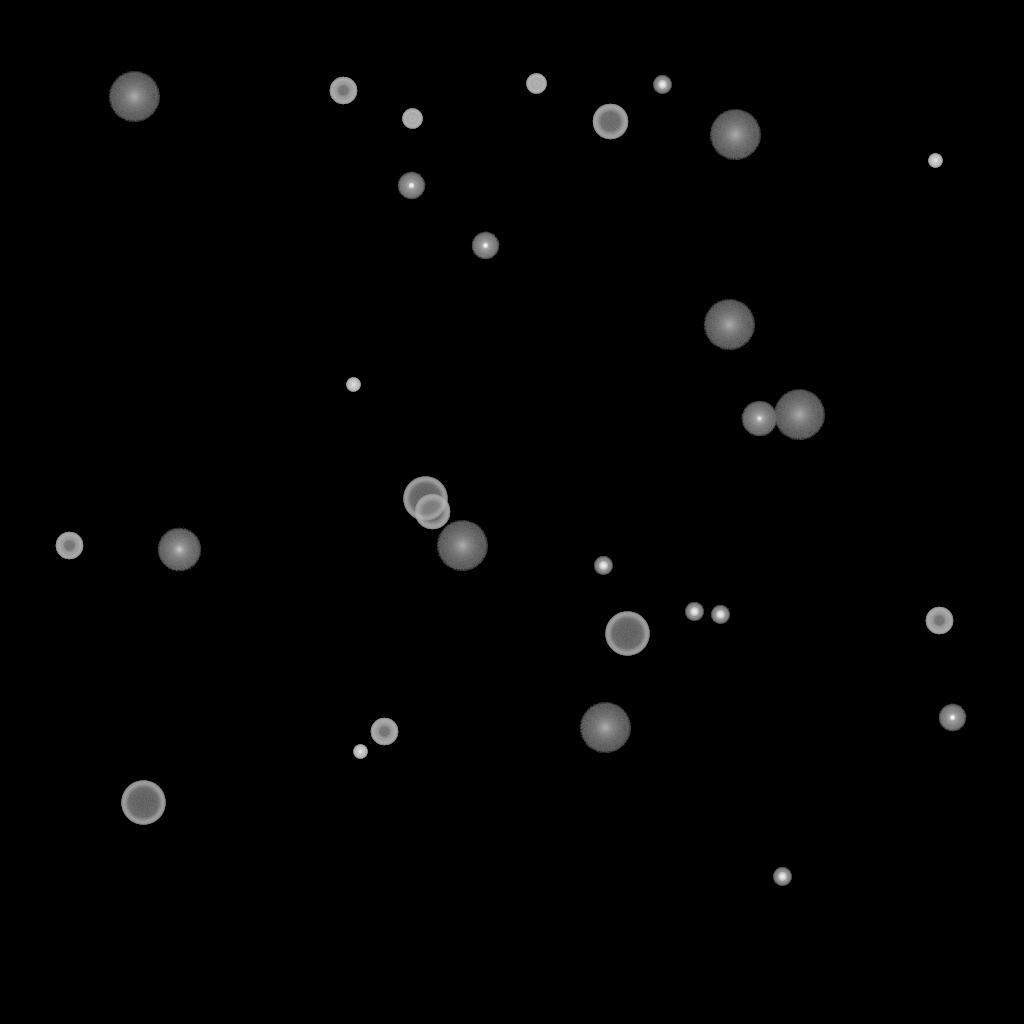depth:-10: (397, 172, 425, 200), (938, 704, 966, 732), (471, 232, 499, 260)
depth:-20: (773, 868, 791, 886), (685, 603, 703, 621), (594, 557, 612, 575), (653, 76, 671, 94), (711, 606, 729, 624)
depth:-30: (346, 378, 360, 392), (353, 745, 367, 759), (928, 154, 942, 168)
depth:-40: (526, 74, 546, 94), (402, 109, 422, 129)
depth:-50: (55, 532, 83, 560), (925, 607, 953, 635), (370, 718, 398, 746), (329, 77, 357, 105)
depth:-60: (592, 104, 628, 140), (414, 494, 450, 530)
depth:-70: (605, 612, 649, 656), (403, 477, 447, 521), (121, 781, 165, 825)
depth:0: (741, 401, 777, 437)
depth:10: (157, 528, 201, 572)
depth:20: (709, 110, 761, 160), (436, 521, 488, 571), (773, 390, 825, 440), (108, 72, 160, 122), (703, 300, 755, 350), (579, 703, 631, 753)
